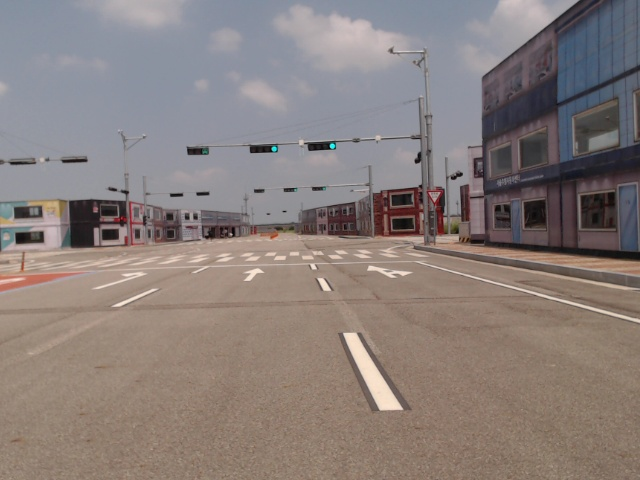straight_green_4: (251, 144, 280, 155), (308, 142, 337, 151), (311, 186, 328, 190), (284, 189, 297, 193)
